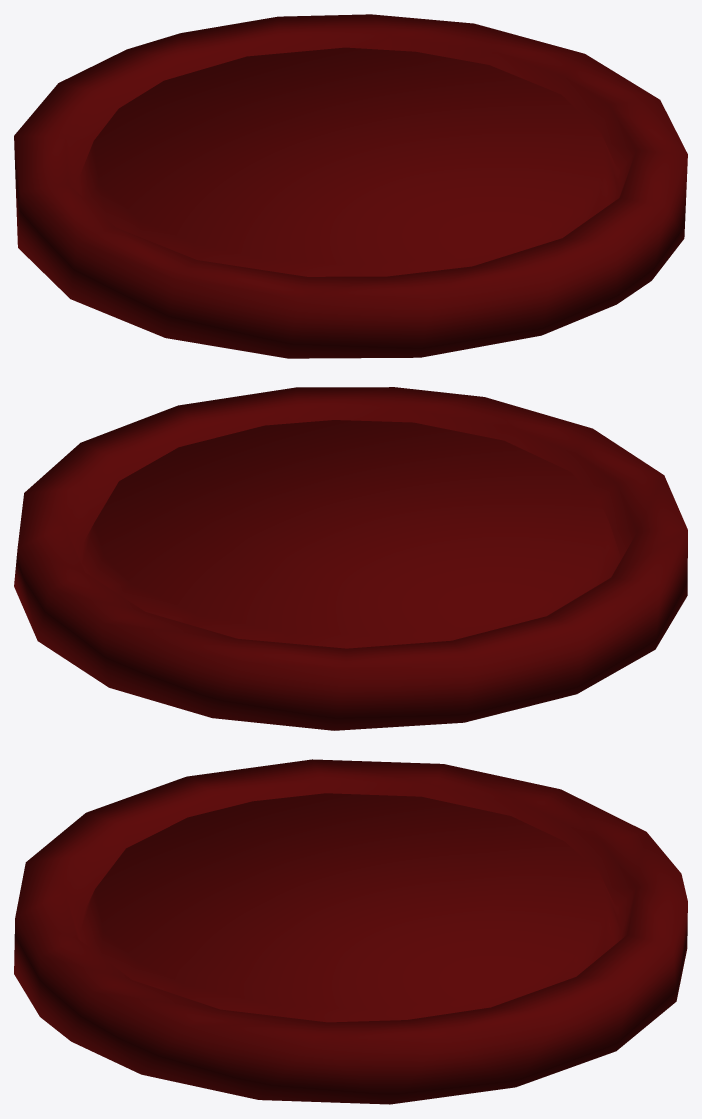
Rendered from puck.obj.
3 views of the same model, one above another, from view 1: azimuth 30°, elevation 25°; view 2: azimuth 150°, elevation 25°; view 3: azimuth 270°, elevation 25° (orthographic).
Visible parts, largest first — view 1: Cylinder_Cylinder.001; view 2: Cylinder_Cylinder.001; view 3: Cylinder_Cylinder.001.
Part boxes in pixels (left/top/right/bottom): Cylinder_Cylinder.001: left=14, top=14, right=687, bottom=358; Cylinder_Cylinder.001: left=14, top=387, right=687, bottom=730; Cylinder_Cylinder.001: left=14, top=759, right=687, bottom=1104.
Bounding box in the file's own units: 2 × 0.2 × 2.
